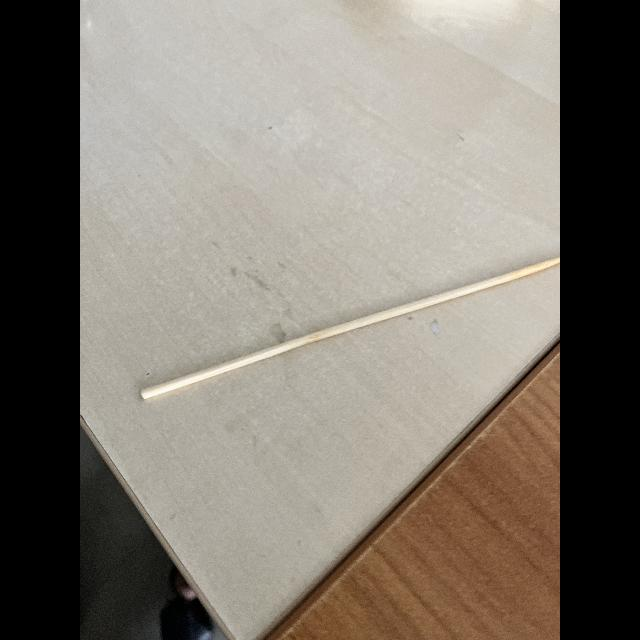stick: (142, 242, 560, 396)
